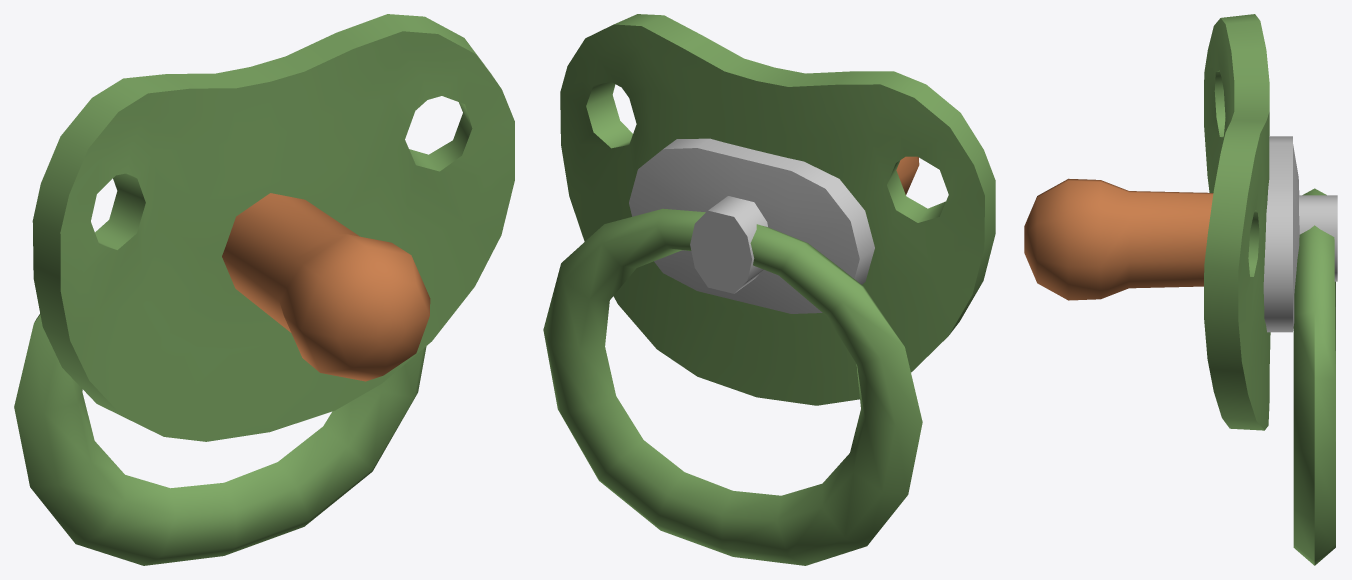
The model's file is Pacifier_01.fbx.
The picture shows the model from 3 angles, left to right: view 1: azimuth 30°, elevation 25°; view 2: azimuth 150°, elevation 25°; view 3: azimuth 270°, elevation 25°; orthographic projection. The views are drawn at different scales.
Parts seen in each view (by area): view 1: Pacifier_01; view 2: Pacifier_01; view 3: Pacifier_01.
Boxes of the visible parts, box(x1,y1,x2,y2) form: Pacifier_01: box(14, 14, 514, 565); Pacifier_01: box(543, 14, 995, 565); Pacifier_01: box(1024, 14, 1337, 565).
Bounding box in the file's own units: 0.0752 × 0.0814 × 0.0499.
